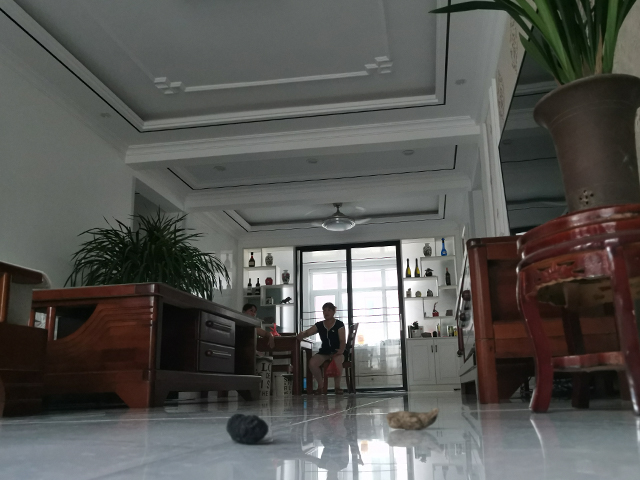cabinet: (453, 232, 640, 406), (406, 331, 460, 393)
feces: (225, 412, 271, 446), (385, 409, 440, 432)
stool: (510, 201, 640, 418), (322, 321, 360, 394)
table: (28, 280, 265, 409), (255, 334, 316, 397)
trashcan: (253, 354, 273, 396), (280, 372, 294, 396)
